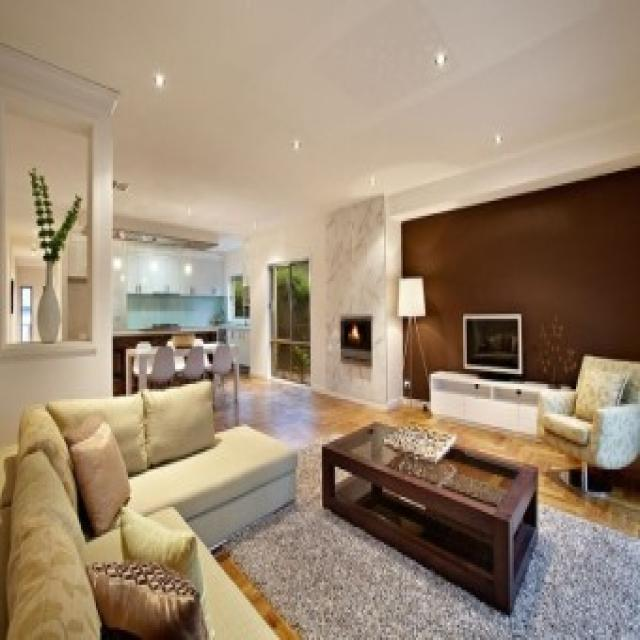Chair: (538, 342, 637, 514), (146, 346, 176, 386), (211, 342, 235, 392), (178, 342, 204, 384)
Sofa: (4, 387, 299, 640)
Table: (322, 404, 542, 618)
tv: (462, 314, 524, 380)
